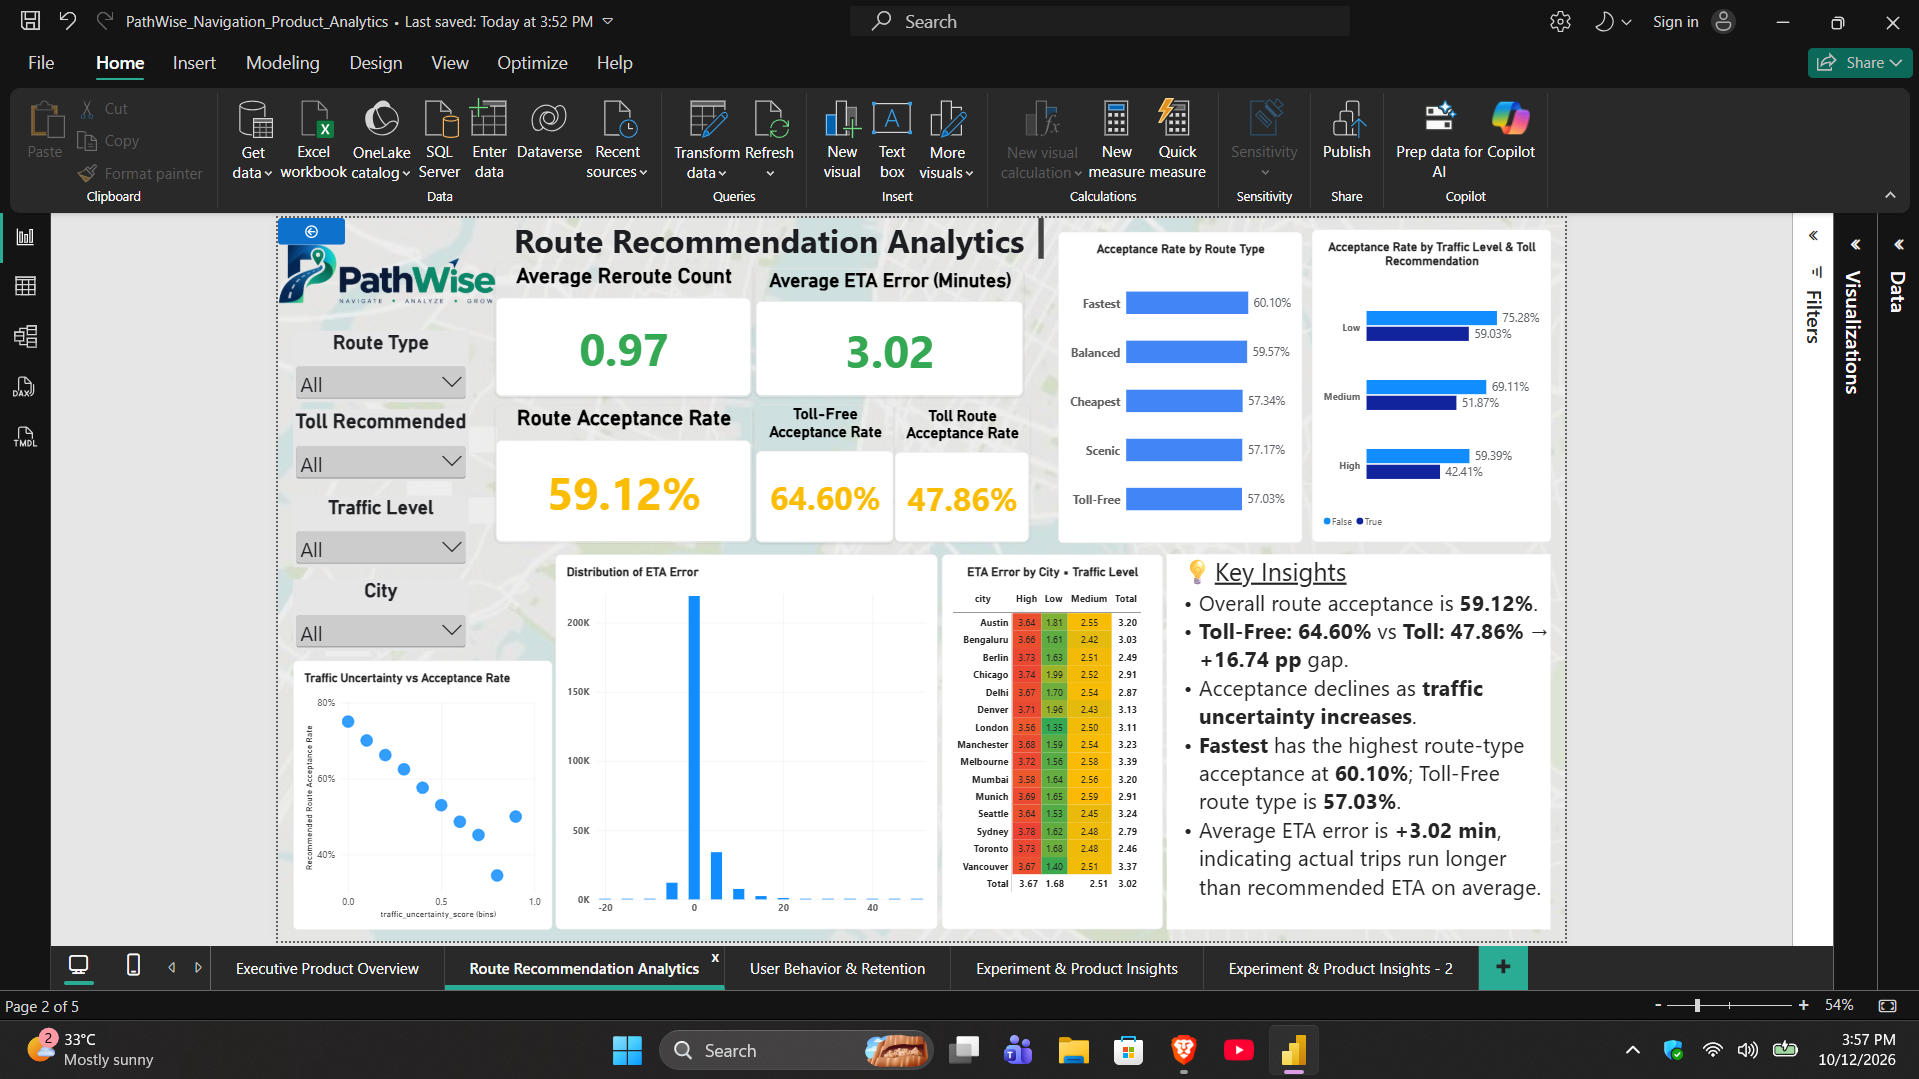

The page's visual inventory and layout, read from the dashboard file:
{"tool":"powerbi","page":{"name":"Route Recommendation Analytics","canvas":[1920,1080],"ordinal":1},"visuals":[{"type":"textbox","box":[352.5,0,790,62.5],"z":0},{"type":"cardVisual","title":"Average Reroute Count","fields":{"Data":["KPI Measures.Average Reroute Count"]},"box":[325,67.5,382.5,200],"z":1000},{"type":"cardVisual","title":"Average ETA Error (Minutes)","fields":{"Data":["KPI Measures.Average ETA Error"]},"box":[712.5,75,400,192.5],"z":2000},{"type":"cardVisual","title":"Route Acceptance Rate","fields":{"Data":["KPI Measures.Recommended Route Acceptance Rate"]},"box":[325,280,382.5,205],"z":3000},{"type":"cardVisual","title":"Toll Route Acceptance Rate","fields":{"Data":["KPI Measures.Toll Route Acceptance Rate"]},"box":[920,280,202.5,205],"z":4000},{"type":"clusteredBarChart","title":"Acceptance Rate by Route Type","fields":{"Category":["pathwise navigation_sessions.recommended_route_type"],"Y":["KPI Measures.Recommended Route Acceptance Rate"]},"box":[1165,20,365,465],"z":5000},{"type":"image","box":[0,0,325,167.5],"z":6000},{"type":"cardVisual","title":"Toll-Free Acceptance Rate","fields":{"Data":["KPI Measures.Toll Free Route Acceptance Route"]},"box":[712.5,277.5,207.5,207.5],"z":7000},{"type":"clusteredBarChart","title":"Acceptance Rate by Traffic Level & Toll Recommendation","fields":{"Y":["KPI Measures.Recommended Route Acceptance Rate"],"Category":["pathwise navigation_sessions.traffic_level"],"Series":["pathwise navigation_sessions.toll_recommended"]},"box":[1542.5,17.5,357.5,467.5],"z":8000},{"type":"scatterChart","title":"Traffic Uncertainty vs Acceptance Rate","fields":{"X":["pathwise navigation_sessions.traffic_uncertainty_score (bins)"],"Y":["KPI Measures.Recommended Route Acceptance Rate"]},"box":[22.5,660,387.5,402.5],"z":9000},{"type":"clusteredColumnChart","title":"Distribution of ETA Error","fields":{"Category":["pathwise navigation_sessions.ETA Error (bins)"],"Y":["CountNonNull(pathwise navigation_sessions.ETA Error)"]},"box":[415,502.5,570,560],"z":10000},{"type":"pivotTable","title":"ETA Error by City × Traffic Level","fields":{"Rows":["pathwise navigation_sessions.city"],"Columns":["pathwise navigation_sessions.traffic_level"],"Values":["KPI Measures.Average ETA Error"]},"box":[990,502.5,330,560],"z":11000},{"type":"slicer","title":"Route Type","fields":{"Values":["pathwise navigation_sessions.recommended_route_type"]},"box":[22.5,167.5,262.5,107.5],"z":12000},{"type":"actionButton","box":[0,0,100,40],"z":13000},{"type":"slicer","title":"Traffic Level","fields":{"Values":["pathwise navigation_sessions.traffic_level"]},"box":[22.5,415,262.5,107.5],"z":14000},{"type":"slicer","title":"Toll Recommended","fields":{"Values":["pathwise navigation_sessions.toll_recommended"]},"box":[22.5,285,262.5,107.5],"z":15000},{"type":"slicer","title":"City","fields":{"Values":["pathwise navigation_sessions.city"]},"box":[22.5,540,262.5,107.5],"z":16000},{"type":"textbox","box":[1327.5,502.5,572.5,560],"z":17000}]}

Visuals, with their boxes on the page's 1920x1080 design canvas (x1, y1, x2, y2). These are canvas units, not pixel positions in the 1919x1079 screenshot, which may show the page scaled, cropped or inside an application window:
textbox: crop(352, 0, 1142, 62)
"Average Reroute Count" cardVisual: crop(325, 68, 708, 268)
"Average ETA Error (Minutes)" cardVisual: crop(712, 75, 1112, 268)
"Route Acceptance Rate" cardVisual: crop(325, 280, 708, 485)
"Toll Route Acceptance Rate" cardVisual: crop(920, 280, 1122, 485)
"Acceptance Rate by Route Type" clusteredBarChart: crop(1165, 20, 1530, 485)
image: crop(0, 0, 325, 168)
"Toll-Free Acceptance Rate" cardVisual: crop(712, 278, 920, 485)
"Acceptance Rate by Traffic Level & Toll Recommendation" clusteredBarChart: crop(1542, 18, 1900, 485)
"Traffic Uncertainty vs Acceptance Rate" scatterChart: crop(22, 660, 410, 1062)
"Distribution of ETA Error" clusteredColumnChart: crop(415, 502, 985, 1062)
"ETA Error by City × Traffic Level" pivotTable: crop(990, 502, 1320, 1062)
"Route Type" slicer: crop(22, 168, 285, 275)
actionButton: crop(0, 0, 100, 40)
"Traffic Level" slicer: crop(22, 415, 285, 522)
"Toll Recommended" slicer: crop(22, 285, 285, 392)
"City" slicer: crop(22, 540, 285, 648)
textbox: crop(1328, 502, 1900, 1062)
